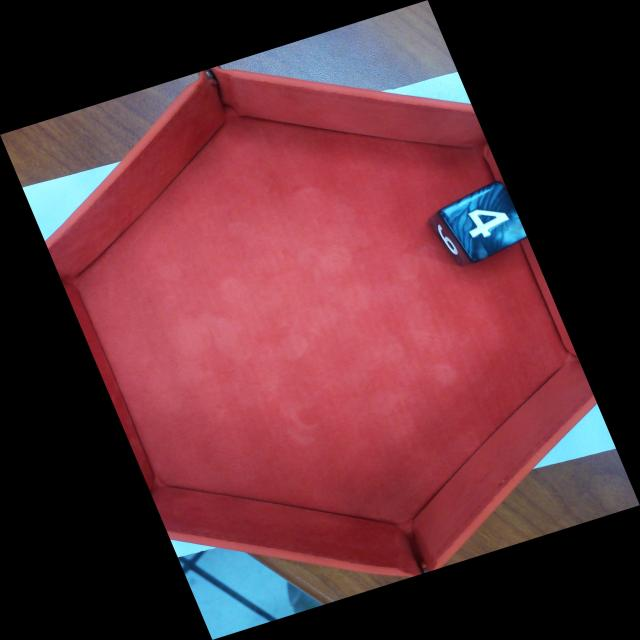dice: (443, 186, 529, 260)
